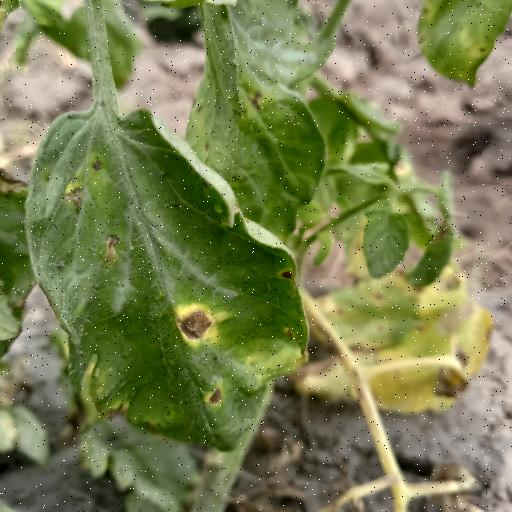Tomato_Brown_Spots: (23, 90, 309, 512), (176, 0, 331, 247)
